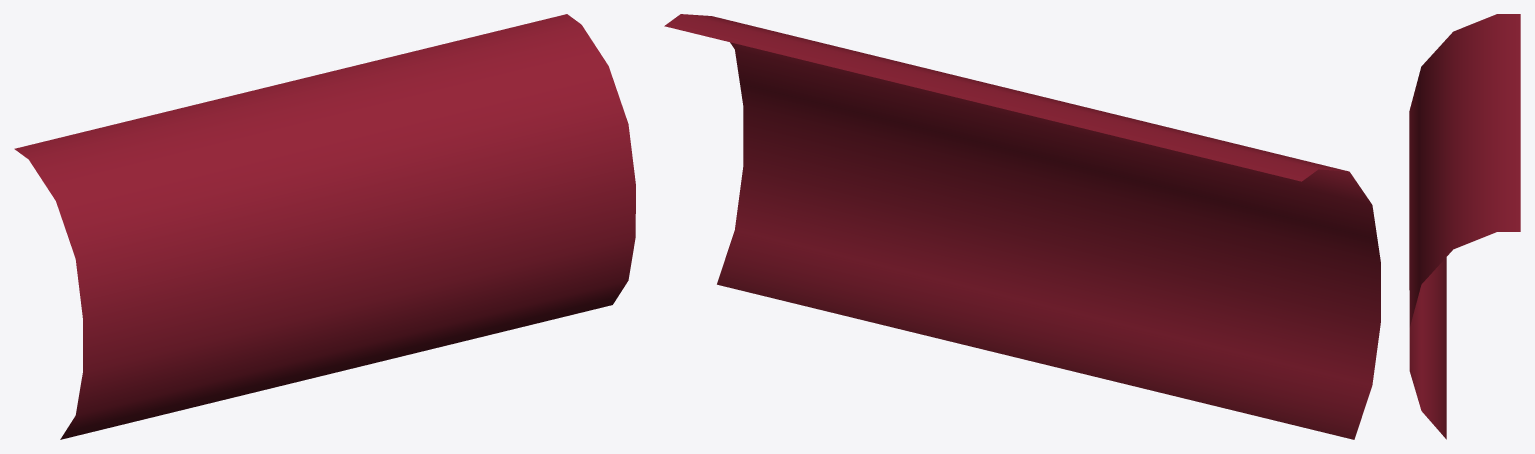
The model's file is Surface_FrontUp0.fbx.
3 views of the same model, side by side, from view 1: azimuth 30°, elevation 25°; view 2: azimuth 150°, elevation 25°; view 3: azimuth 270°, elevation 25° (orthographic). The views are drawn at different scales.
Visible parts, largest first — view 1: Surface_FrontUp00; view 2: Surface_FrontUp00; view 3: Surface_FrontUp00.
Boxes of the visible parts, x1,y1,x2,y2 form: Surface_FrontUp00: (14,14,635,439); Surface_FrontUp00: (664,14,1380,439); Surface_FrontUp00: (1409,14,1520,439).
Bounding box in the file's own units: 2000 × 890 × 431.
